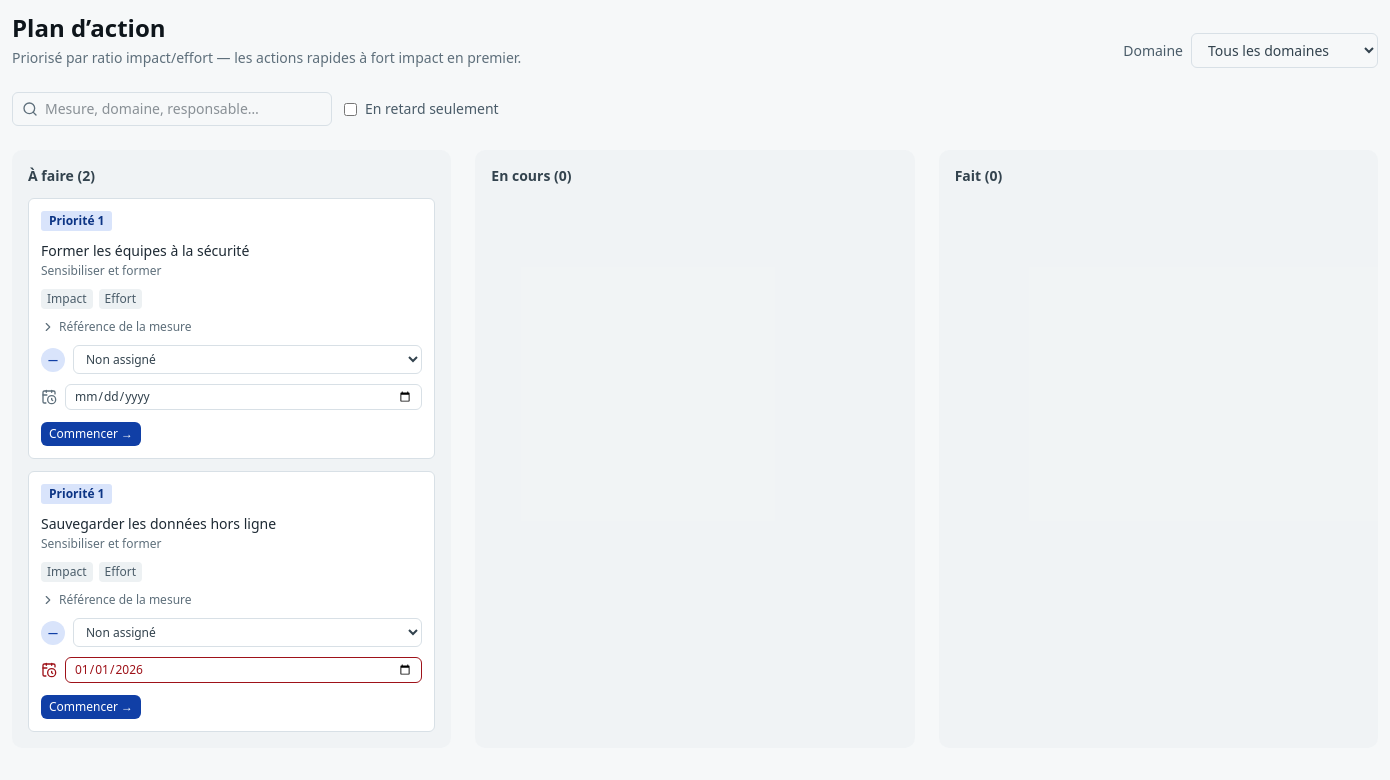
Test case: ActionPlanPage — chercher une action › filtre les actions par leur intitulé, sans tenir compte des accents
This screenshot has width=1390, height=780.
Step 1. Type "equipes" into the search field named "Rechercher une action" → (172, 109), box [12,92,332,126]
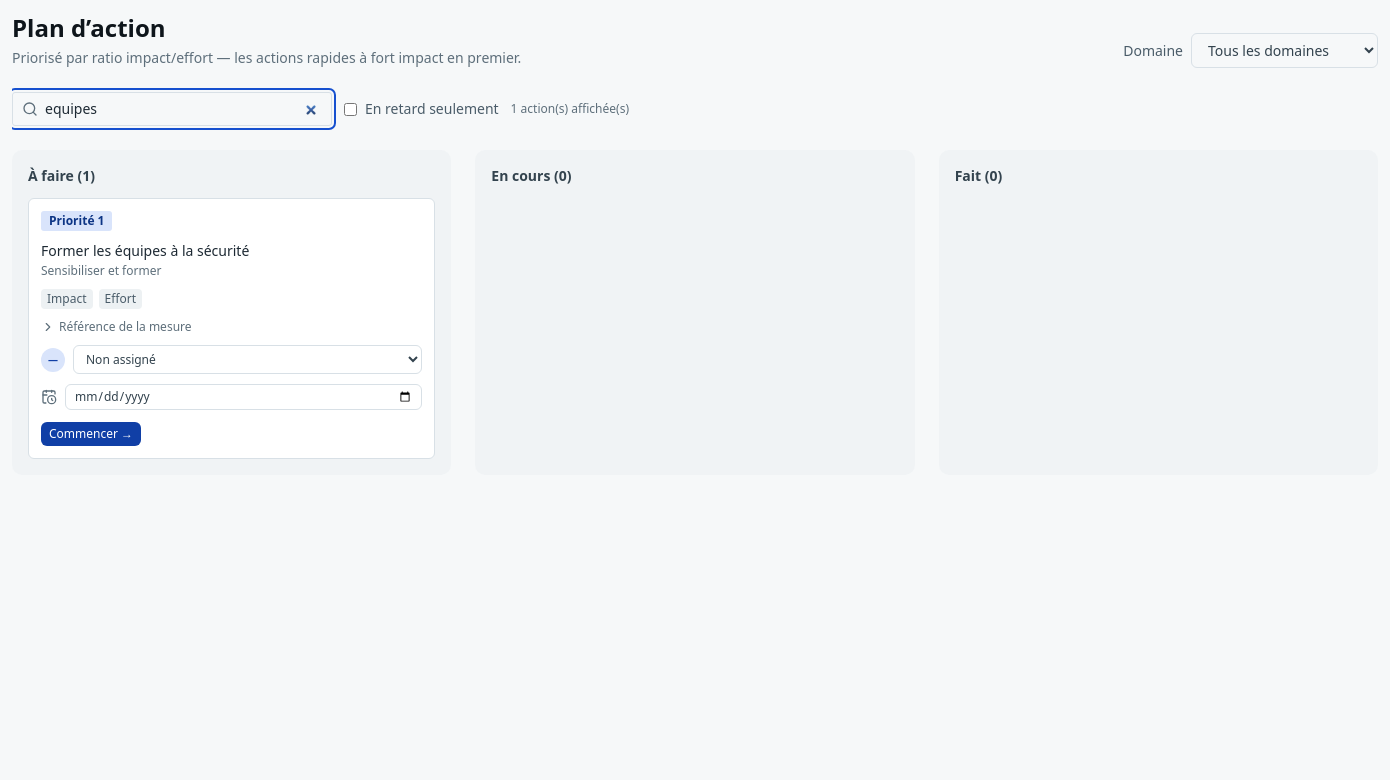
Expected: the text "Former les équipes à la sécurité" is shown, [41,241,249,260]
Result: the text "Sauvegarder les données hors ligne" is gone
Result: the text "1 action(s) affichée(s)" is shown at [511,101,629,117]
